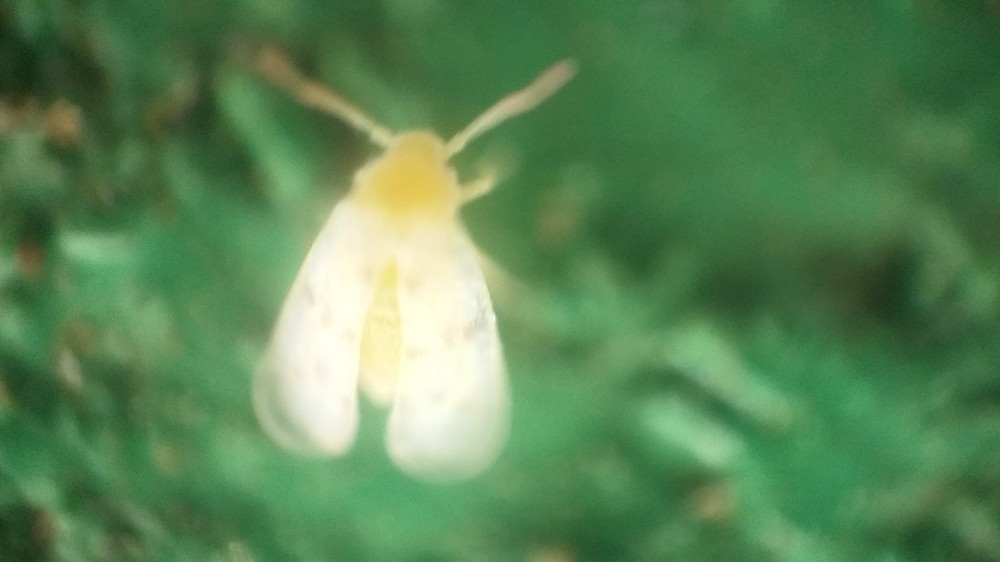Mosca Blanca: (234, 41, 602, 504)
